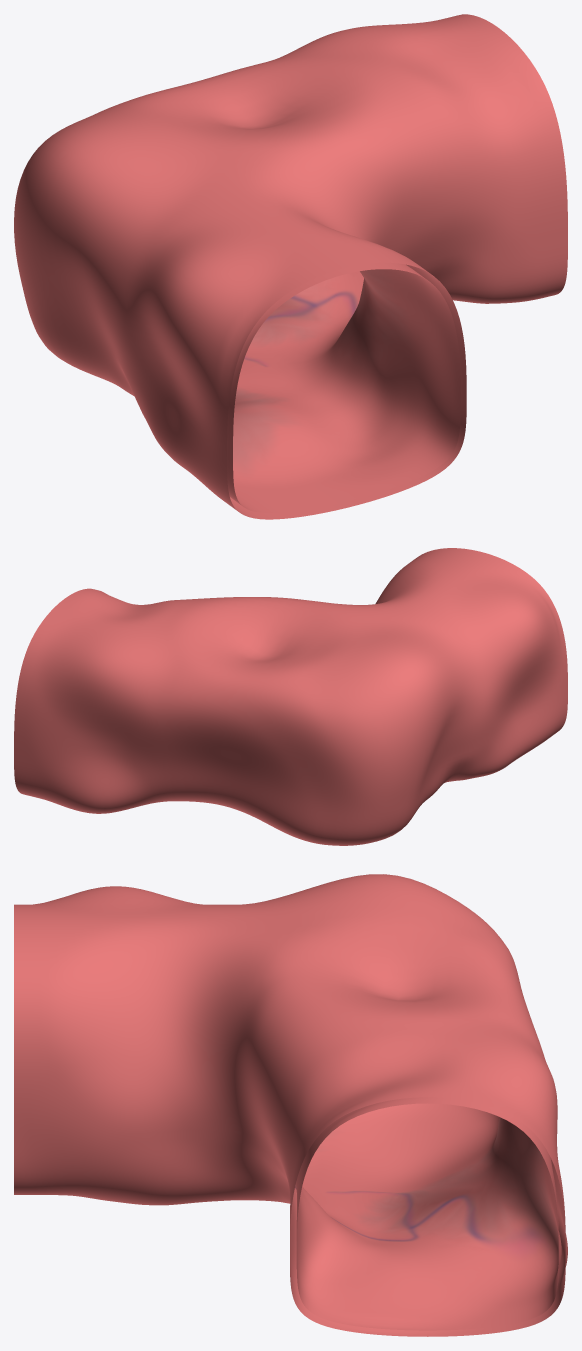
The model's file is cave_turn_right.fbx.
3 views of the same model, one above another, from view 1: azimuth 30°, elevation 25°; view 2: azimuth 150°, elevation 25°; view 3: azimuth 270°, elevation 25° (orthographic). The views are drawn at different scales.
Parts seen in each view (by area): view 1: cave_turn_right.000; view 2: cave_turn_right.000; view 3: cave_turn_right.000.
Boxes of the visible parts, x1,y1,x2,y2 form: cave_turn_right.000: (14, 14, 567, 519); cave_turn_right.000: (14, 548, 567, 845); cave_turn_right.000: (14, 874, 567, 1336).
Bounding box in the file's own units: 407 × 205 × 402.
Materials: 1 (1 with a texture image).
